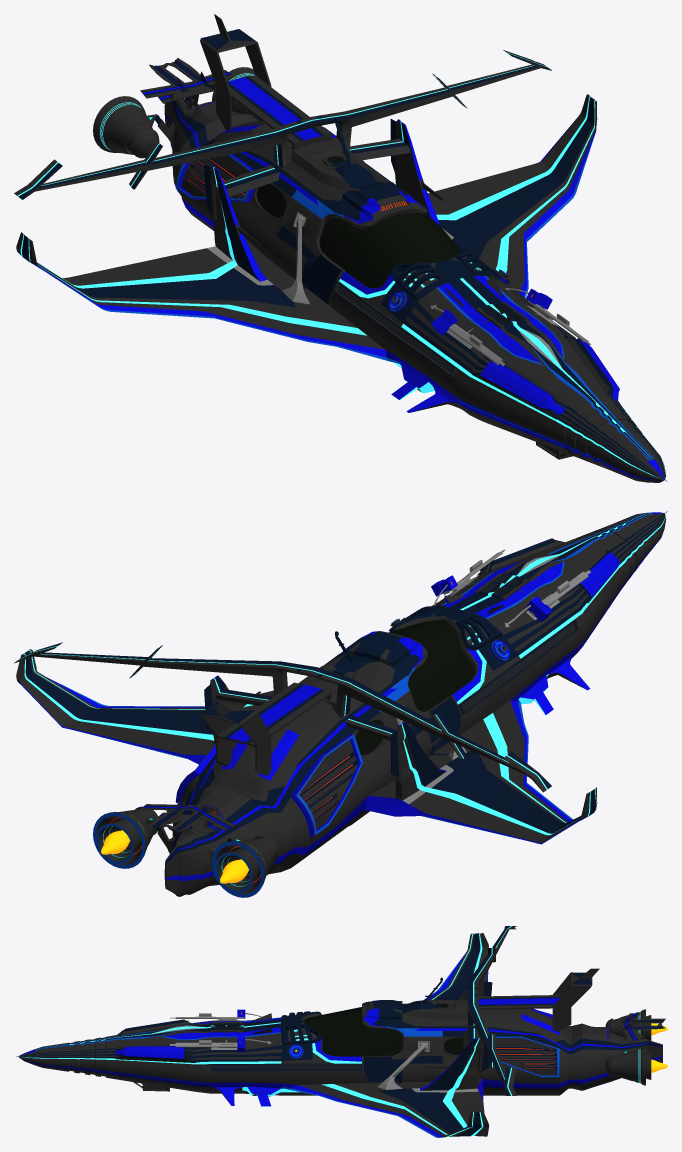
Rendered from nave.glb.
The picture shows the model from 3 angles, top to bottom: view 1: azimuth 30°, elevation 25°; view 2: azimuth 150°, elevation 25°; view 3: azimuth 270°, elevation 25°; orthographic projection. The views are drawn at different scales.
Visible parts, largest first — view 1: Cylinder; view 2: Cylinder; view 3: Cylinder.
Boxes of the visible parts, x1,y1,x2,y2 form: Cylinder: [14, 14, 667, 482]; Cylinder: [14, 511, 667, 897]; Cylinder: [16, 926, 667, 1137].
Bounding box in the file's own units: 5.9 × 1.86 × 9.1.
